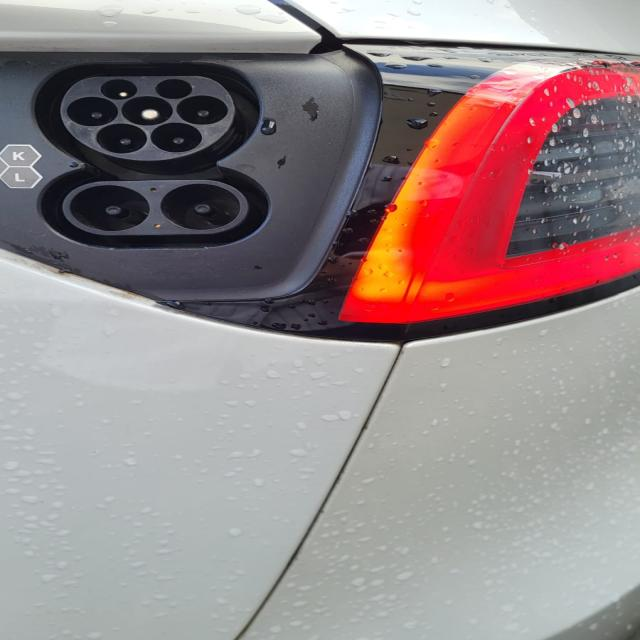inlet: (61, 76, 235, 161)
inlet-above-left: (101, 79, 138, 100)
inlet-above-right: (155, 79, 192, 99)
inlet-below-left: (97, 123, 147, 153)
inlet-below-right: (150, 123, 202, 153)
inlet-circle: (122, 96, 173, 126)
inlet-circle-left: (67, 97, 118, 126)
inlet-circle-right: (177, 95, 228, 125)
inlet-minus: (160, 183, 241, 230)
inlet-plus: (70, 185, 150, 232)
